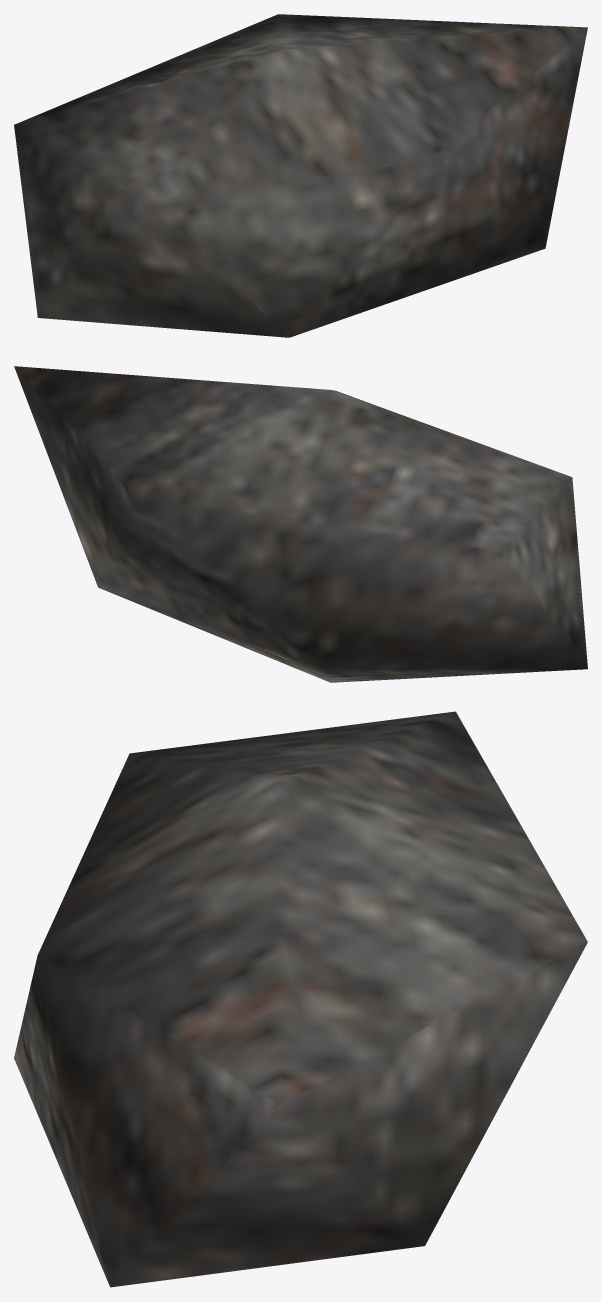
File: SM_HarvestRock_Chip03.fbx
3 renders of one model, top to bottom at view 1: azimuth 30°, elevation 25°; view 2: azimuth 150°, elevation 25°; view 3: azimuth 270°, elevation 25°, orthographic. The views are drawn at different scales.
Visible parts, largest first — view 1: SM_HarvestRock_Chip03; view 2: SM_HarvestRock_Chip03; view 3: SM_HarvestRock_Chip03.
Part boxes in pixels (x1,y1,x2,y2): SM_HarvestRock_Chip03: (14,14,587,337); SM_HarvestRock_Chip03: (14,366,587,682); SM_HarvestRock_Chip03: (14,711,587,1287).
Bounding box in the file's own units: 40.71 × 22.76 × 19.85.
1 material, 1 textured.
